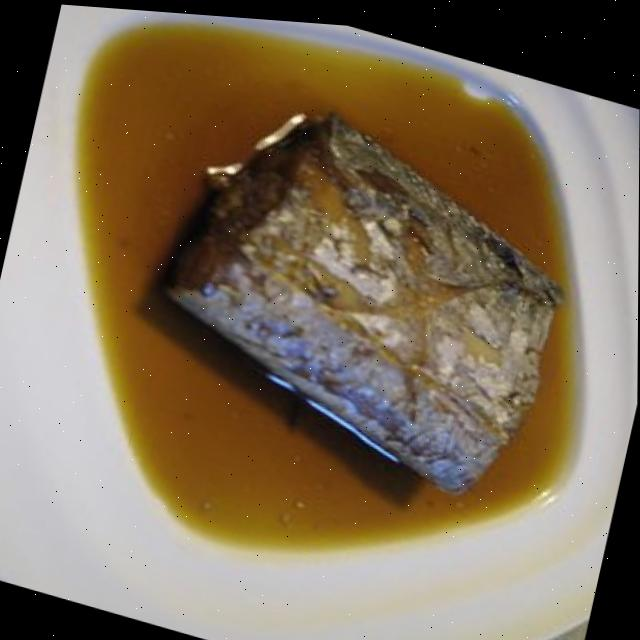熟制海鲜: (74, 39, 632, 572)
